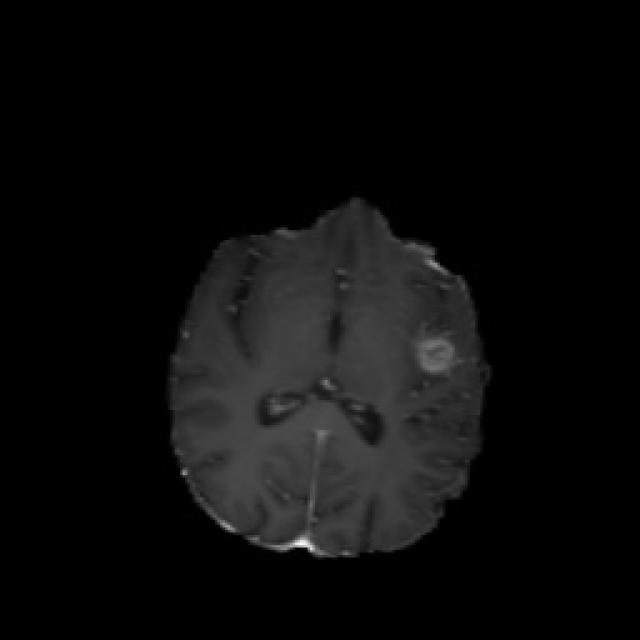negative: (415, 337, 457, 375)
